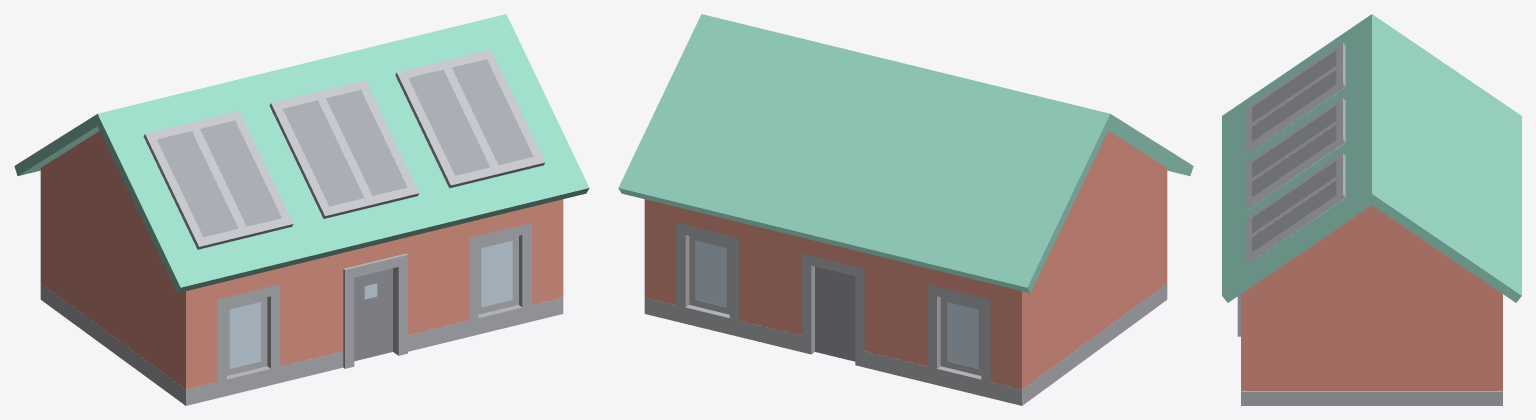
Rendered from house_textures.gltf.
3 views of the same model, side by side, from view 1: azimuth 30°, elevation 25°; view 2: azimuth 150°, elevation 25°; view 3: azimuth 270°, elevation 25° (orthographic). The views are drawn at different scales.
Parts seen in each view (by area): view 1: house_type01; view 2: house_type01; view 3: house_type01.
Part boxes in pixels (x1,y1,x2,y2): house_type01: (14, 14, 589, 405); house_type01: (618, 14, 1193, 405); house_type01: (1222, 14, 1521, 405).
Bounding box in the file's own units: 1.95 × 1.11 × 1.37.
